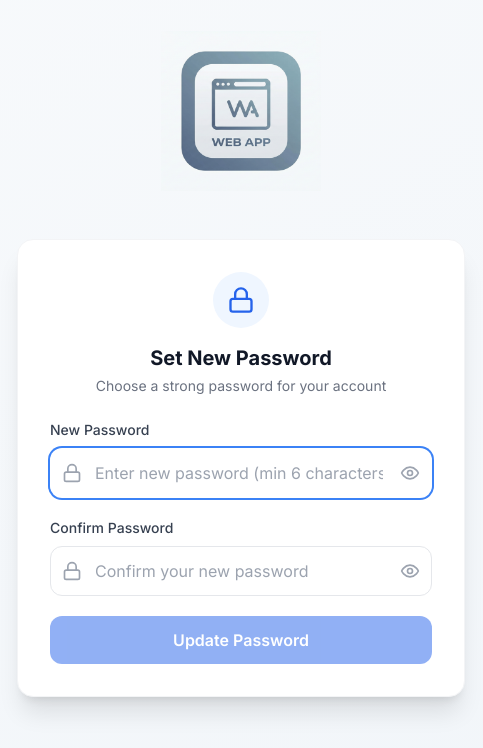
UpdatePasswordPage › shows error when passwords do not match
This screenshot has width=483, height=748.
Type "password1" into the password field with placeholder "Enter new password (min 6 characters)" at (241, 473), box [50,448,432,498]
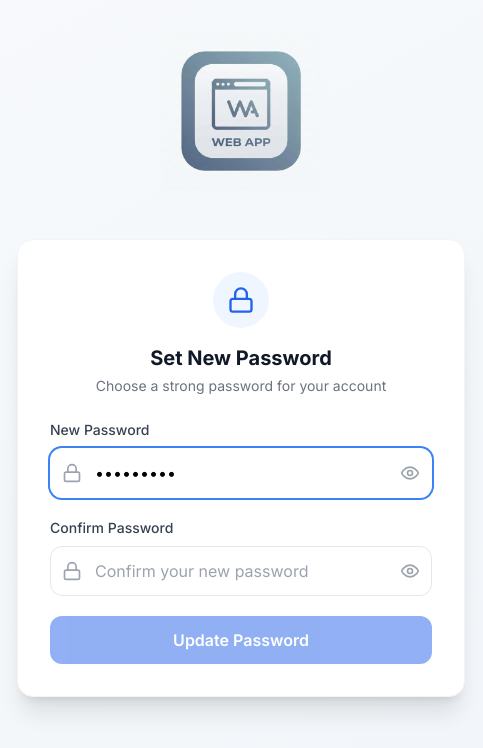
Type "password2" into the password field with placeholder "Confirm your new password" at (241, 571), box [50,546,432,596]
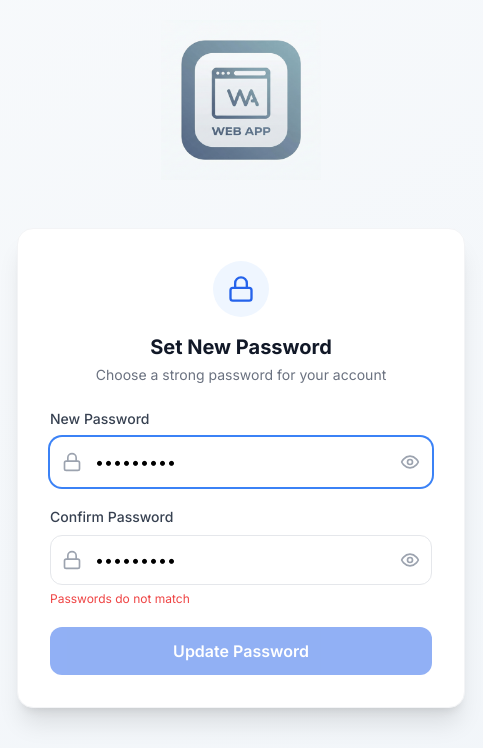
Submit the form, box [50,409,432,675]
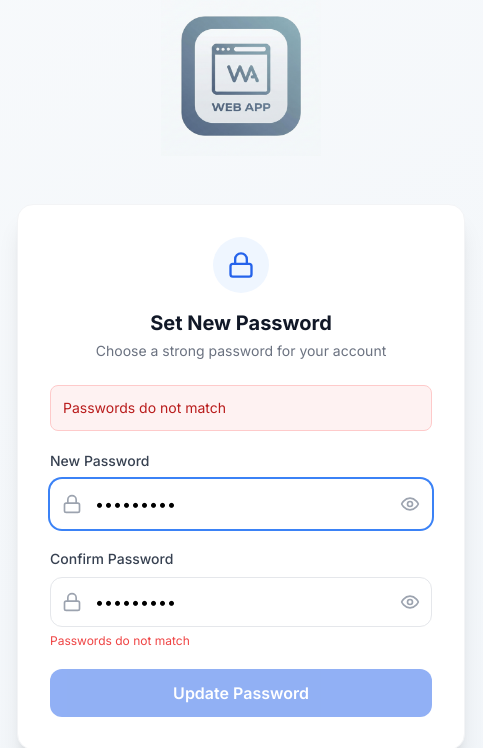
Expected: the 1st text "Passwords do not match" is shown, [50,385,432,431]
